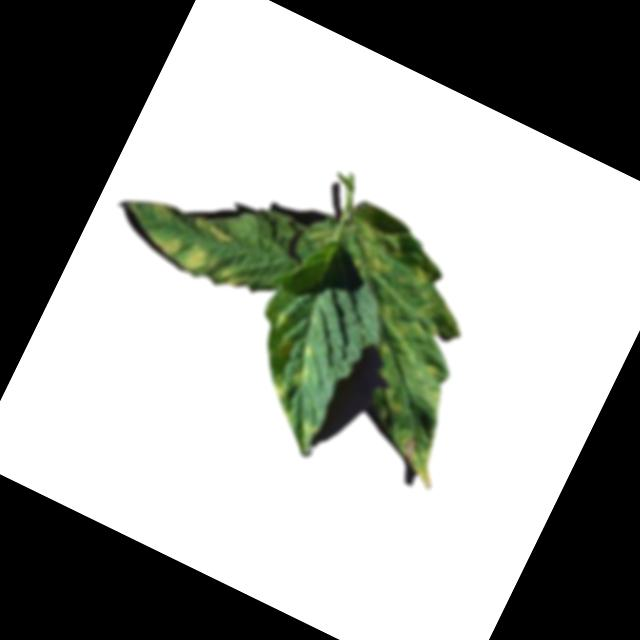Leaf_Mold: (270, 218, 530, 490), (146, 225, 251, 297), (147, 192, 236, 251), (254, 330, 320, 406)
